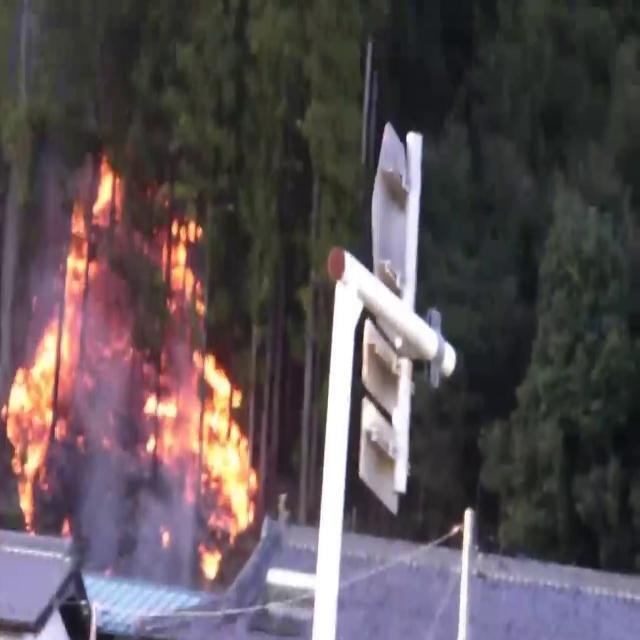Fire: (136, 213, 262, 542), (0, 208, 104, 524)
